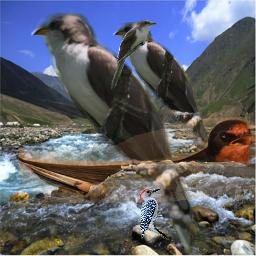Cuckoo: (31, 13, 214, 254), (113, 22, 222, 167), (109, 19, 157, 90)
Swallow: (18, 117, 256, 203)
Woodpecker: (137, 186, 171, 244)
